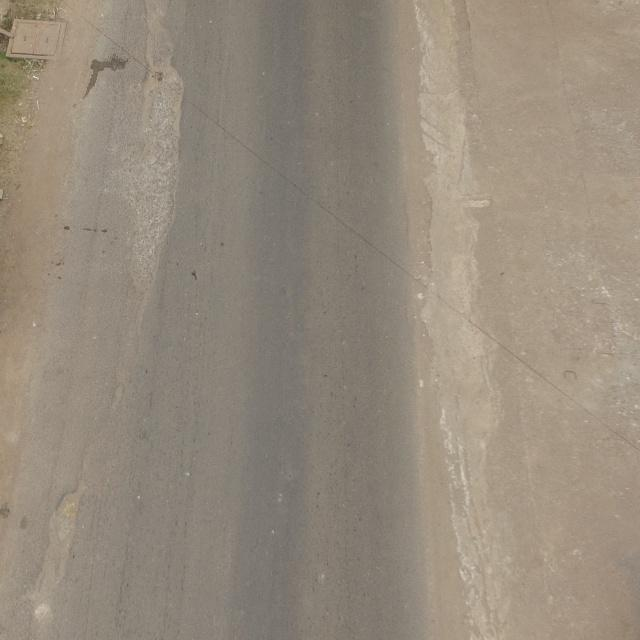BACHE: (32, 487, 81, 639)
GRIETA: (413, 0, 503, 639), (75, 0, 182, 487)
